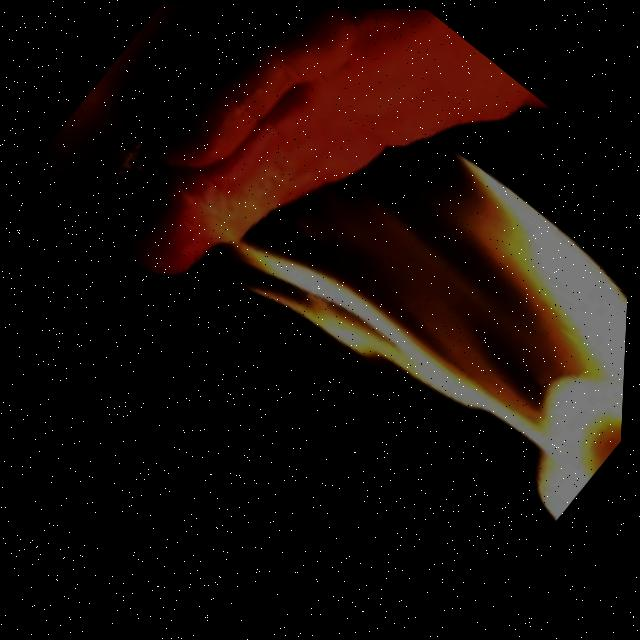Fire: (192, 57, 638, 542)
